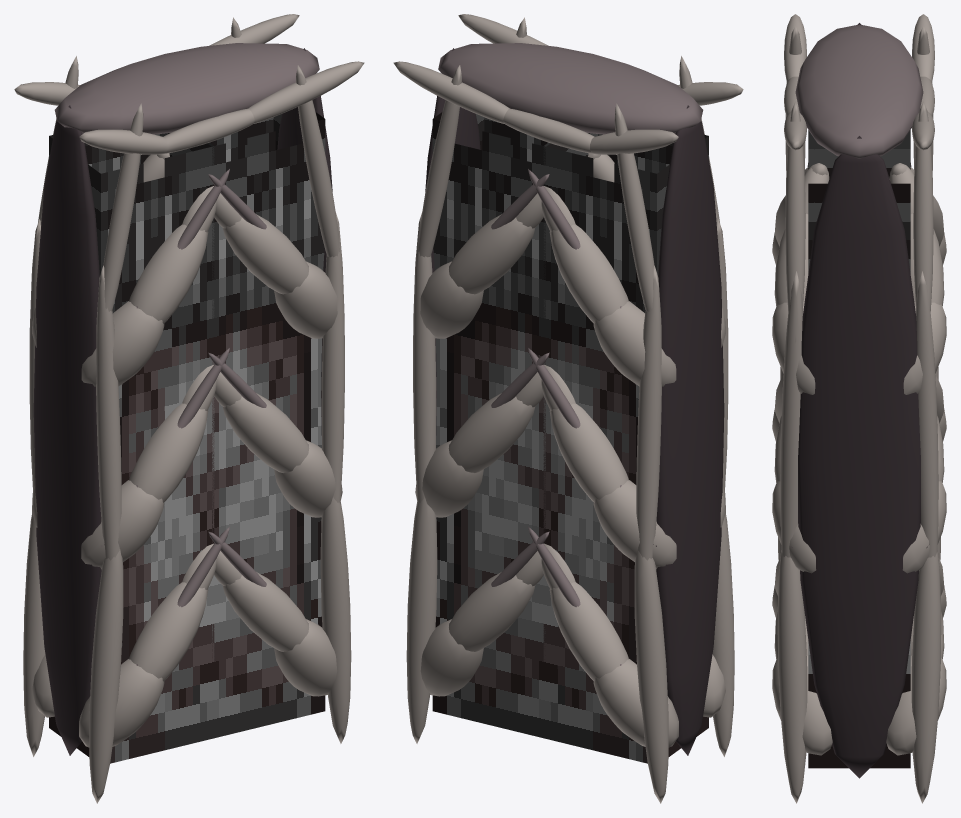
Rendered from CMU3DHiveCMU14XenoThickMyceliumDoor.glb.
3 renders of one model, left to right at view 1: azimuth 30°, elevation 25°; view 2: azimuth 150°, elevation 25°; view 3: azimuth 270°, elevation 25°, orthographic.
Visible parts, largest first — view 1: closed contracting membrane (×2), diagonal muscular leaf fold (×13), resin jamb tissue (×2), curved jamb tendon (×8), fleshy overhanging lintel, swept lintel fold (×5), raised leaf seam (×6); view 2: closed contracting membrane (×2), diagonal muscular leaf fold (×13), resin jamb tissue (×2), curved jamb tendon (×8), fleshy overhanging lintel, swept lintel fold (×5), raised leaf seam (×6); view 3: resin jamb tissue, curved jamb tendon (×8), fleshy overhanging lintel, diagonal muscular leaf fold (×12), closed contracting membrane (×2), swept lintel fold (×6).
Boxes of the visible parts, box(x1,y1,x2,y2) form: closed contracting membrane (×2): box(49, 112, 325, 763); diagonal muscular leaf fold (×13): box(32, 214, 342, 747); resin jamb tissue (×2): box(33, 48, 332, 755); curved jamb tendon (×8): box(23, 65, 351, 803); fleshy overhanging lintel: box(54, 43, 319, 134); swept lintel fold (×5): box(14, 14, 364, 154); raised leaf seam (×6): box(177, 169, 266, 607); closed contracting membrane (×2): box(432, 112, 708, 763); diagonal muscular leaf fold (×13): box(415, 214, 725, 747); resin jamb tissue (×2): box(425, 48, 724, 755); curved jamb tendon (×8): box(406, 65, 734, 803); fleshy overhanging lintel: box(438, 43, 703, 134); swept lintel fold (×5): box(393, 14, 743, 154); raised leaf seam (×6): box(491, 169, 580, 607); resin jamb tissue: box(798, 136, 920, 778); curved jamb tendon (×8): box(777, 26, 941, 803); fleshy overhanging lintel: box(795, 25, 923, 158); diagonal muscular leaf fold (×12): box(772, 168, 946, 755); closed contracting membrane (×2): box(808, 130, 910, 768); swept lintel fold (×6): box(784, 14, 934, 150).
Size of the model in its own units: 1.12 by 2.59 by 0.6003.
Materials: 5 (2 with a texture image).
